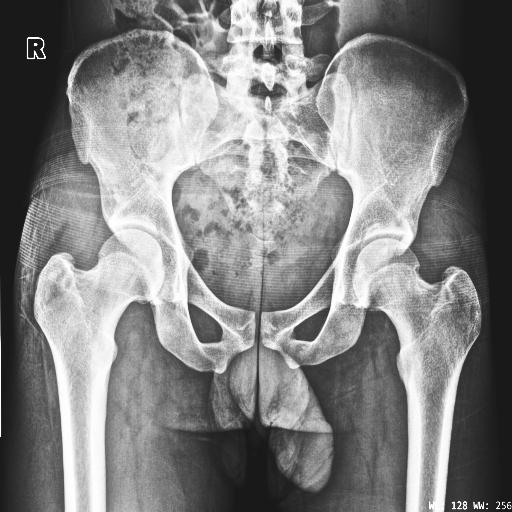normal: (33, 229, 163, 512), (352, 238, 482, 512)
